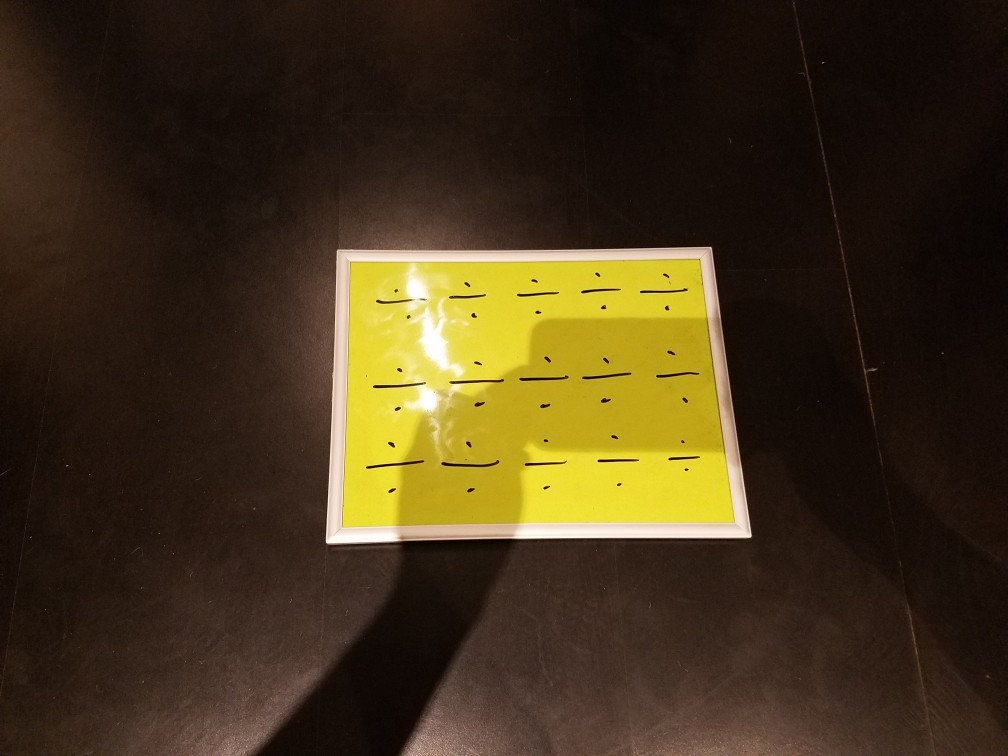div: (589, 426, 653, 501), (362, 432, 427, 501), (441, 433, 505, 501), (647, 344, 711, 409), (515, 430, 571, 503), (365, 356, 429, 418), (444, 352, 506, 413), (356, 277, 430, 328), (509, 350, 569, 412), (505, 266, 571, 322), (579, 351, 636, 409), (636, 264, 693, 318), (571, 264, 624, 316), (439, 274, 498, 320), (662, 432, 711, 485)
